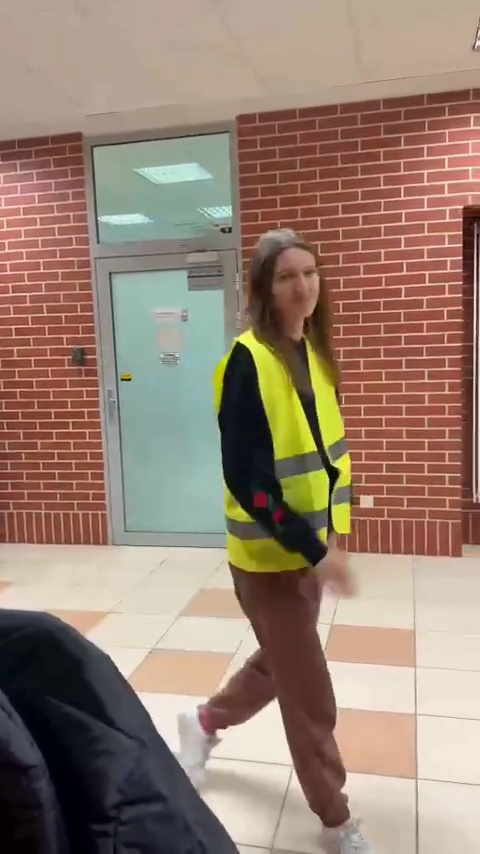vest: (196, 228, 380, 806)
